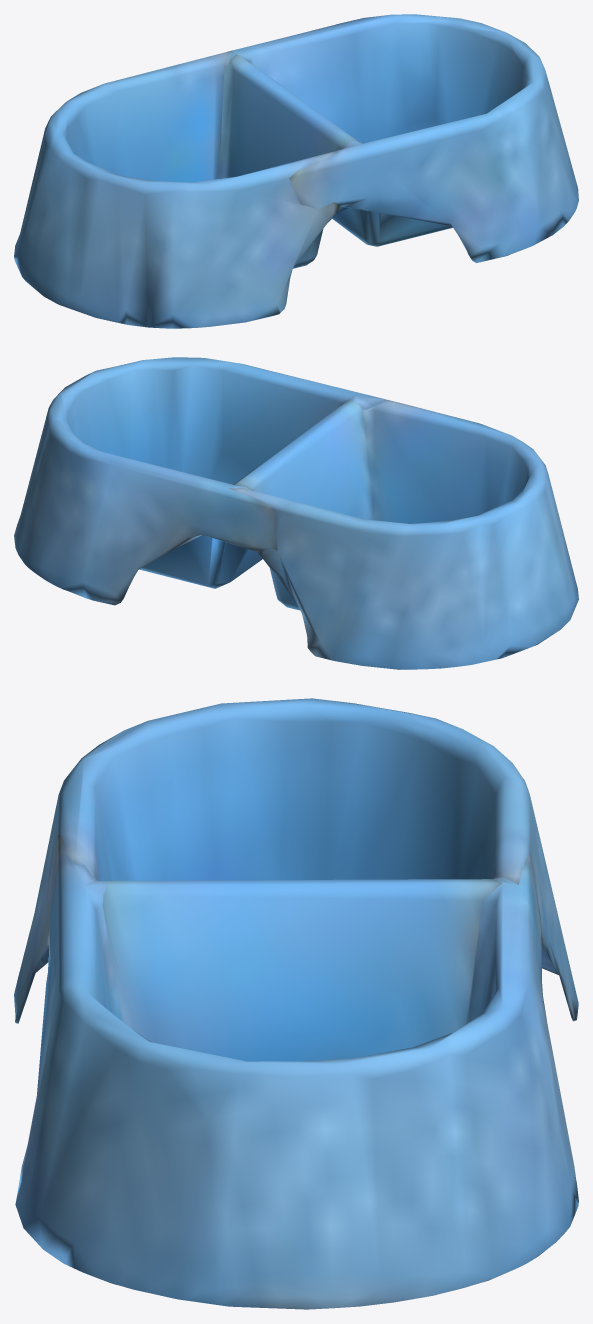
Rendered from Grreat_Choice_Dog_Double_Dish_Plastic_Blue-medium.glb.
3 views of the same model, one above another, from view 1: azimuth 30°, elevation 25°; view 2: azimuth 150°, elevation 25°; view 3: azimuth 270°, elevation 25° (orthographic). The views are drawn at different scales.
Visible parts, largest first — view 1: Grreat_Choice_Dog_Double_Dish_Plastic_Blue; view 2: Grreat_Choice_Dog_Double_Dish_Plastic_Blue; view 3: Grreat_Choice_Dog_Double_Dish_Plastic_Blue.
Part boxes in pixels (x1=…): Grreat_Choice_Dog_Double_Dish_Plastic_Blue: x1=14, y1=14, x2=578, y2=328; Grreat_Choice_Dog_Double_Dish_Plastic_Blue: x1=14, y1=357, x2=578, y2=669; Grreat_Choice_Dog_Double_Dish_Plastic_Blue: x1=14, y1=698, x2=578, y2=1309.
Bounding box in the file's own units: 0.338 × 0.0835 × 0.1876.
1 material, 1 textured.
